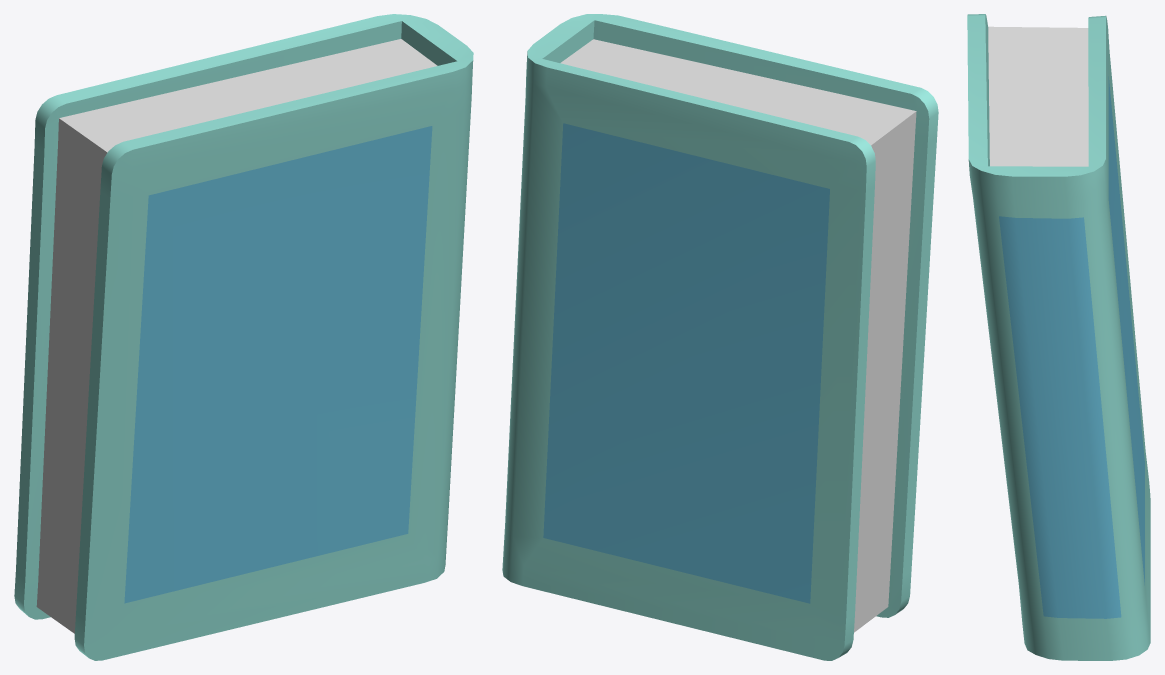
The model's file is Book_01.glb.
3 views of the same model, side by side, from view 1: azimuth 30°, elevation 25°; view 2: azimuth 150°, elevation 25°; view 3: azimuth 270°, elevation 25° (orthographic). The views are drawn at different scales.
Parts seen in each view (by area): view 1: book14; view 2: book14; view 3: book14.
Boxes of the visible parts, left/top/right/bottom form: book14: left=14, top=14, right=473, bottom=660; book14: left=502, top=14, right=938, bottom=660; book14: left=967, top=14, right=1150, bottom=660.
Bounding box in the file's own units: 0.288 × 0.3892 × 0.1328.
